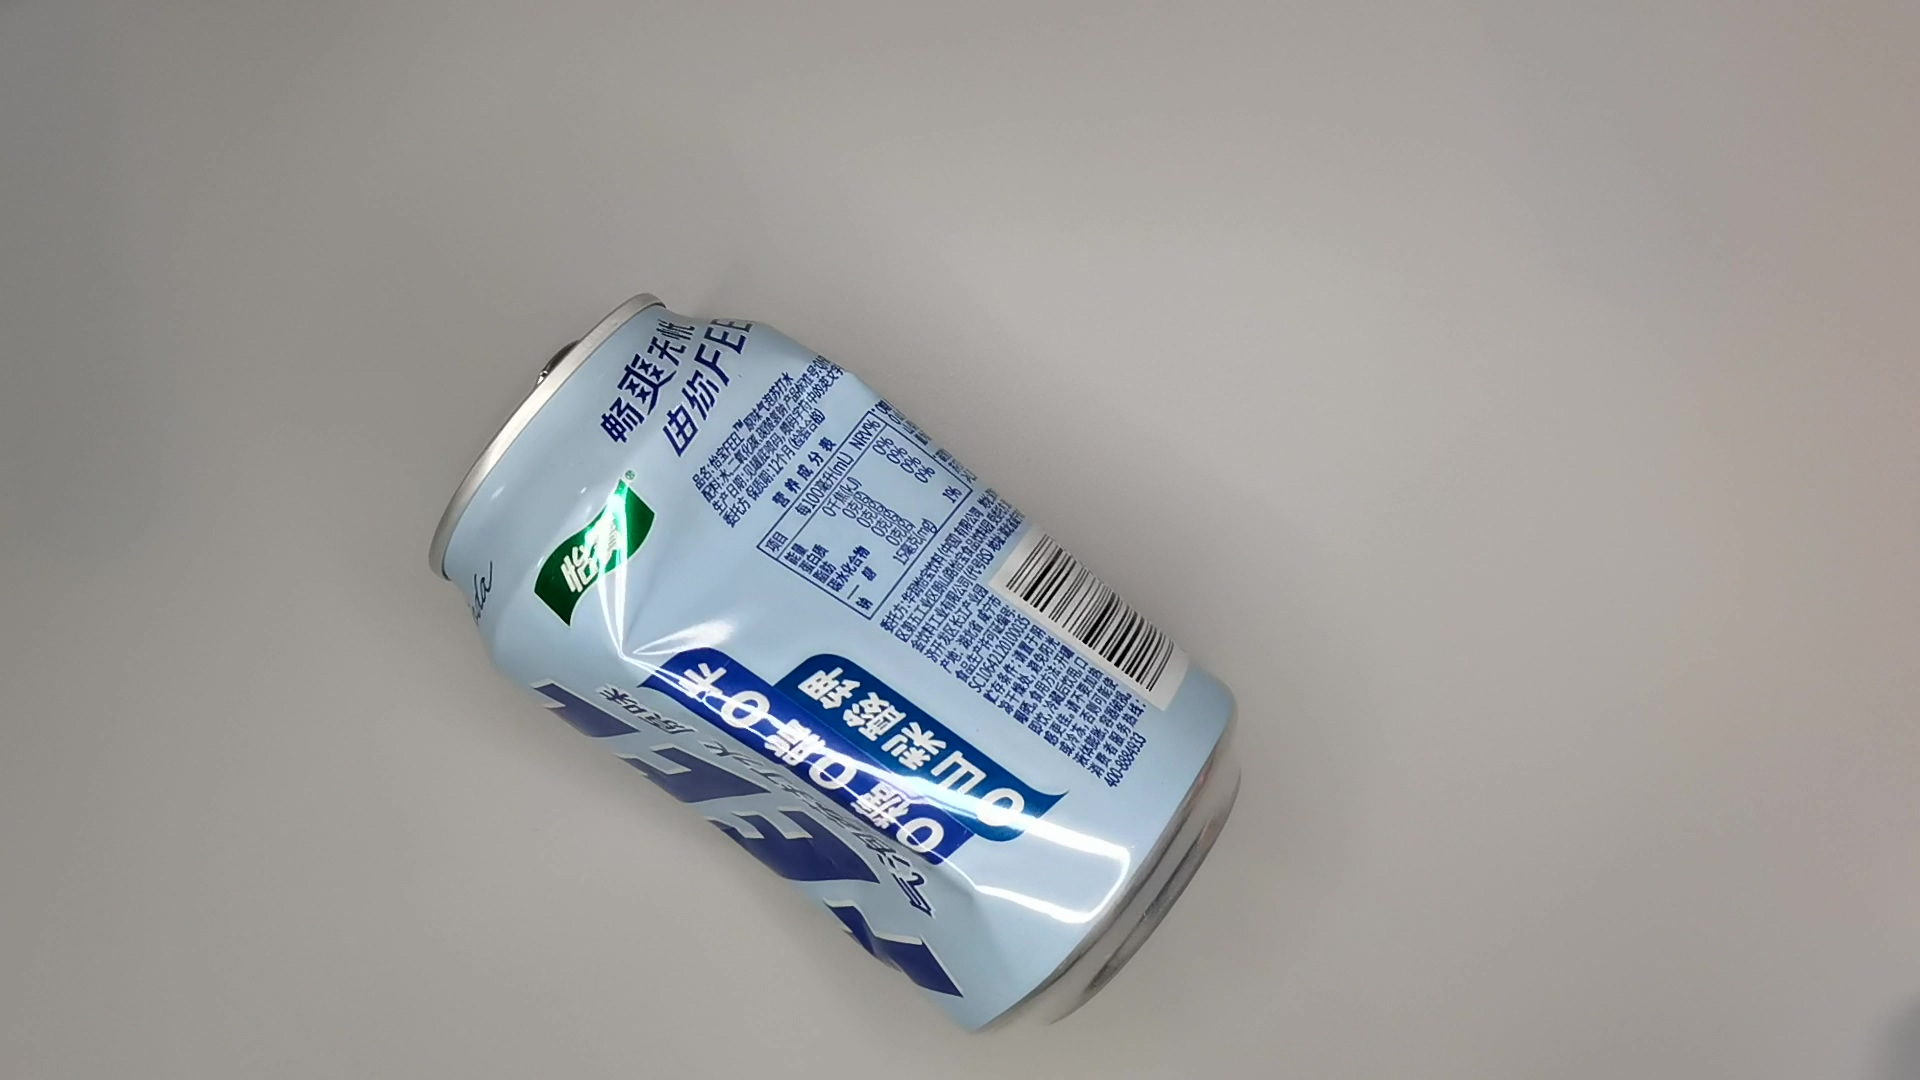can: (426, 285, 1266, 1048)
